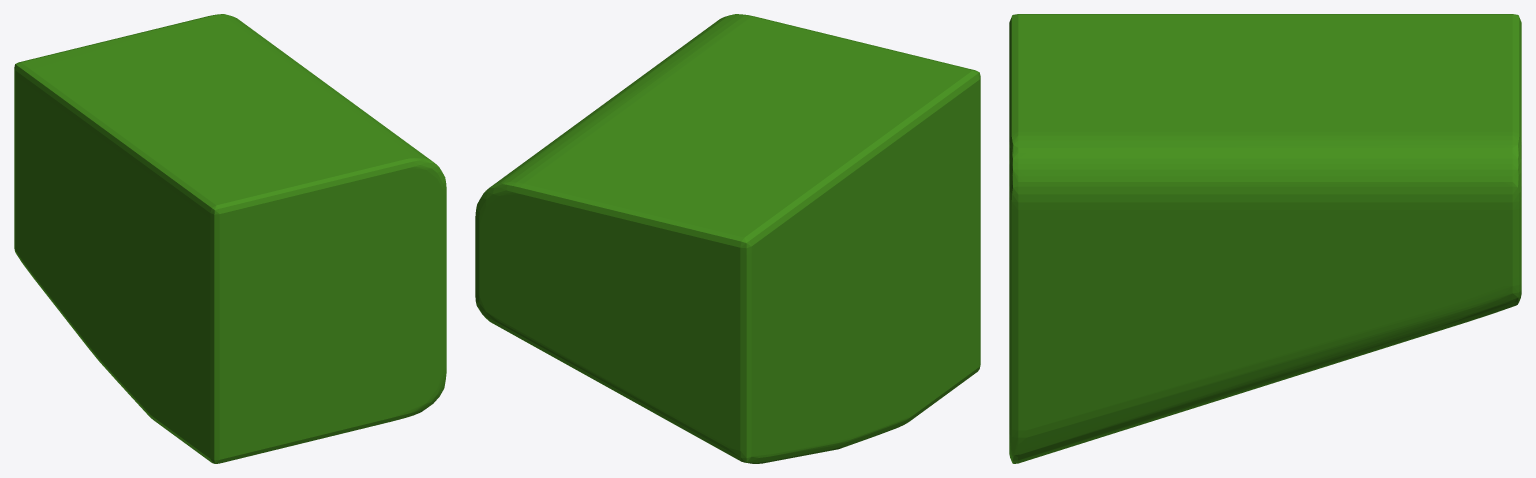
File: left_palm_part_30.obj
The picture shows the model from 3 angles, left to right: view 1: azimuth 30°, elevation 25°; view 2: azimuth 150°, elevation 25°; view 3: azimuth 270°, elevation 25°; orthographic projection. The views are drawn at different scales.
Size of the model in its own units: 21.55 by 22.58 by 32.02.
